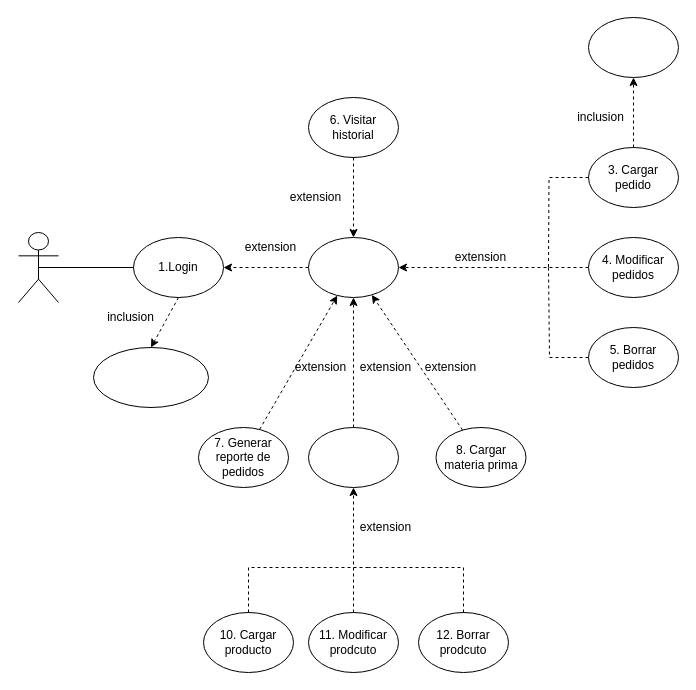
Image size: 696x690. Some labels were removed from this diagram. Each missing label, with the centre of its shape:
1.2 Validacion de usuario y contraseña: (150,377)
2. Pedidos: (353,267)
3.2 Validar disponibilidad de producto: (633,47)
9. Producto: (353,457)
Gerente: (38,267)
